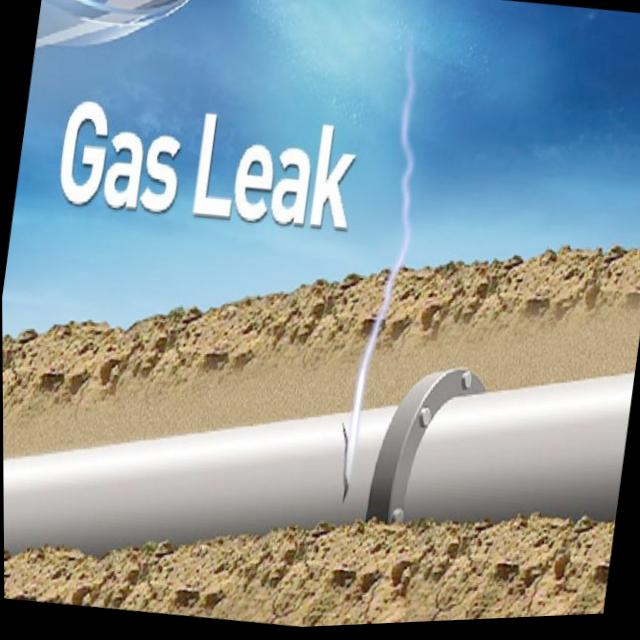leak: (342, 423, 348, 501)
